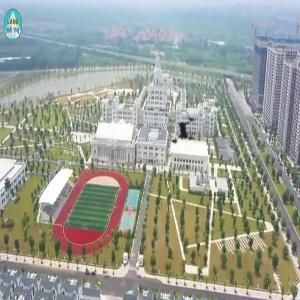drone: (146, 91, 224, 169)
